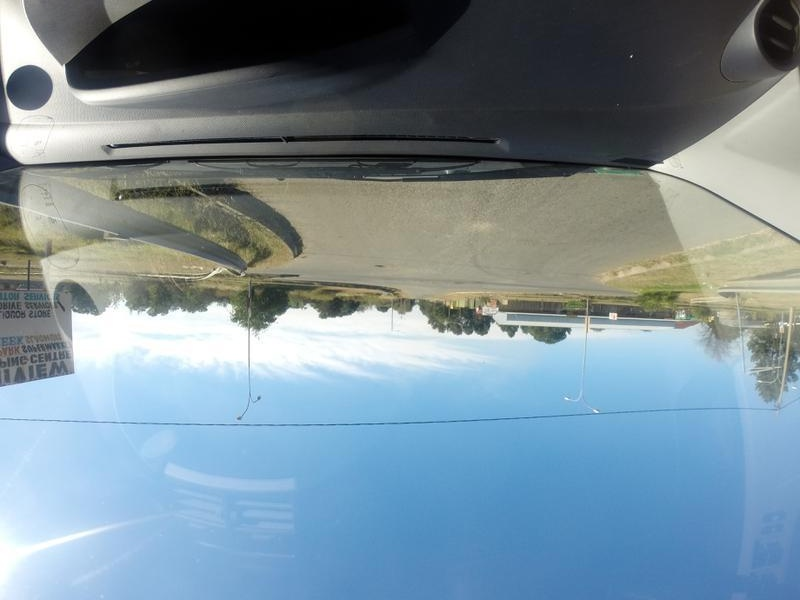pothole: (372, 259, 401, 272)
